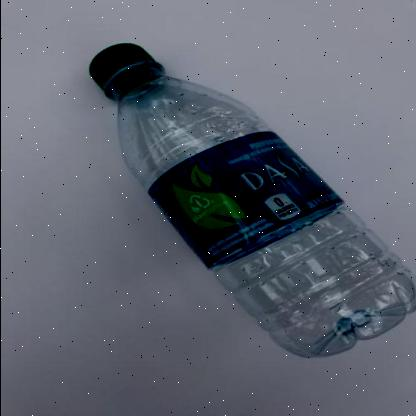Plastic Bottle: (89, 44, 415, 358)
